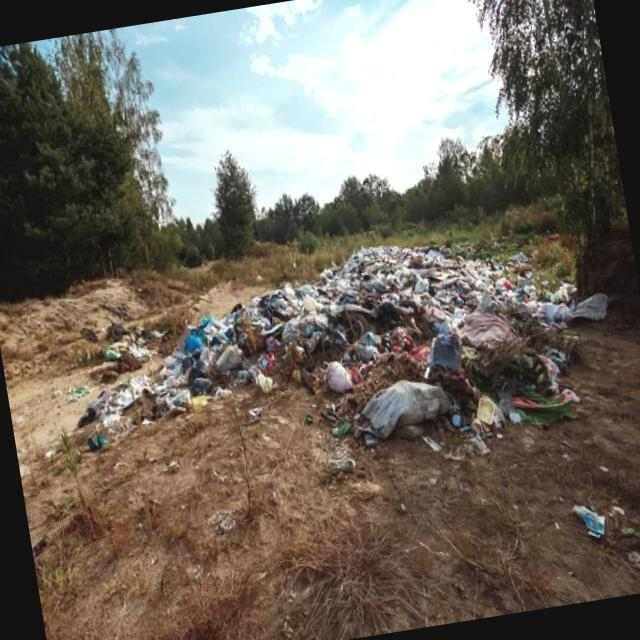garbage: (257, 173, 534, 466)
